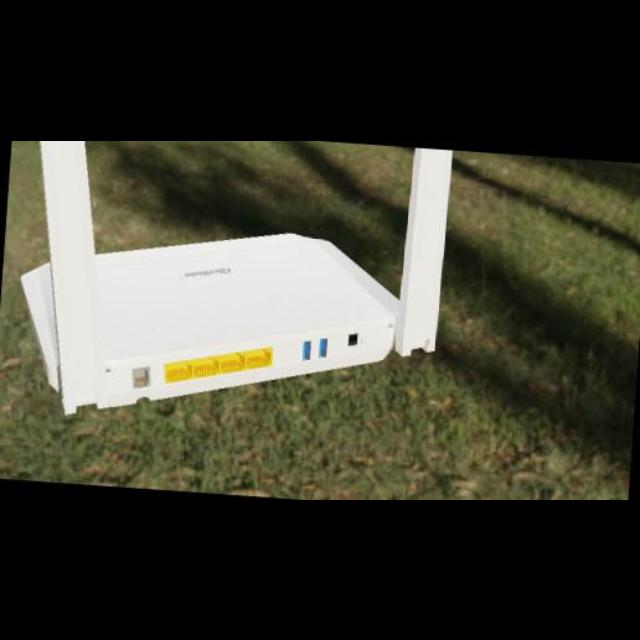Router: (19, 140, 457, 414)
